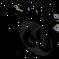Speed Limit -60-: (4, 5, 59, 59)
